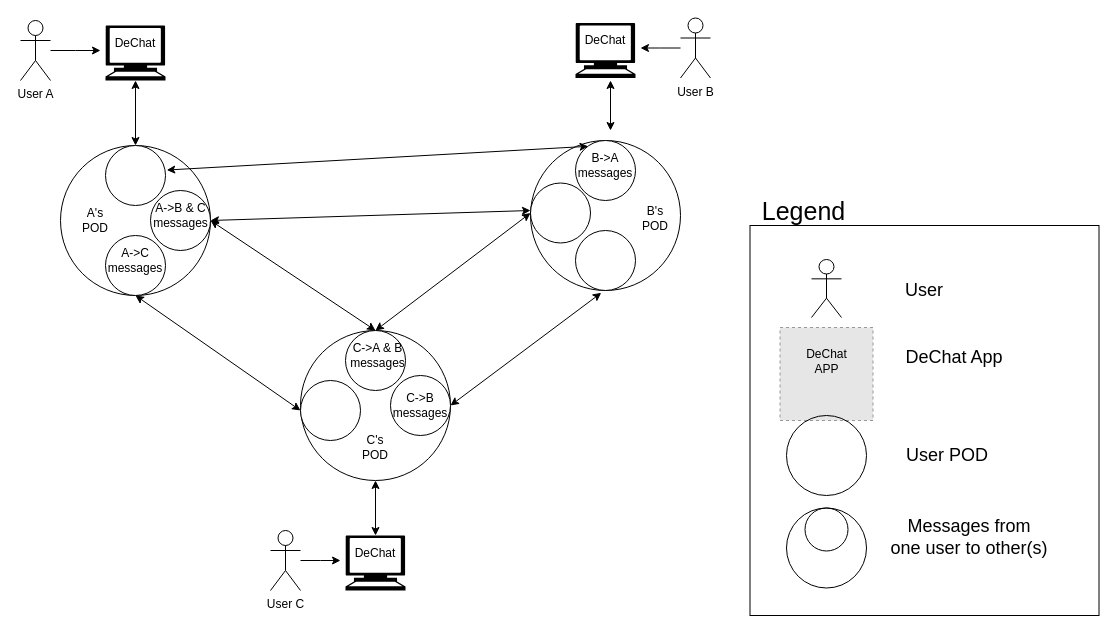
This 1116x633 diagram has some shape labels left out. Grey dashed boxes stand in for pictures. Here are the shapes that lost their labels. From the top down, the box of each, then its label:
(104, 144, 166, 206): A->B messages
(530, 182, 590, 243): B->A & C messages
(574, 230, 636, 290): B->C messages
(300, 380, 360, 440): C->A messages
